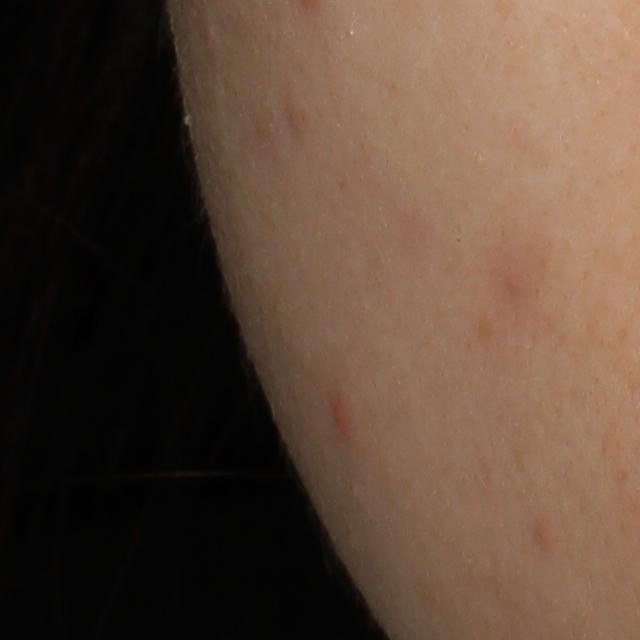papule: (330, 397, 355, 439)
